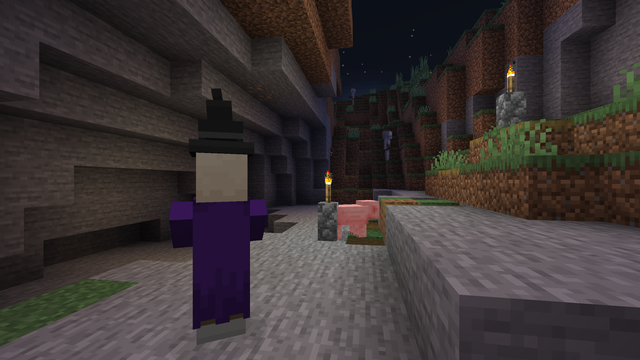cochons: (338, 203, 363, 239)
sorcieres: (175, 144, 258, 355)
squelettes: (382, 130, 391, 159), (350, 88, 355, 105)
